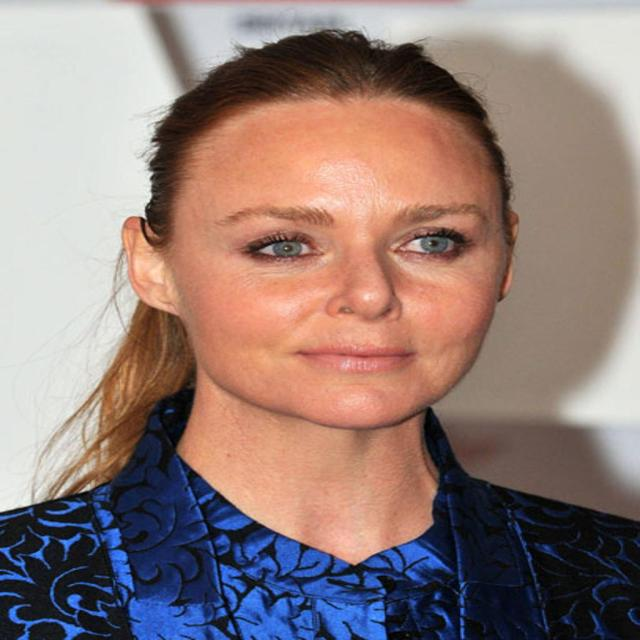Face: (193, 75, 527, 417)
